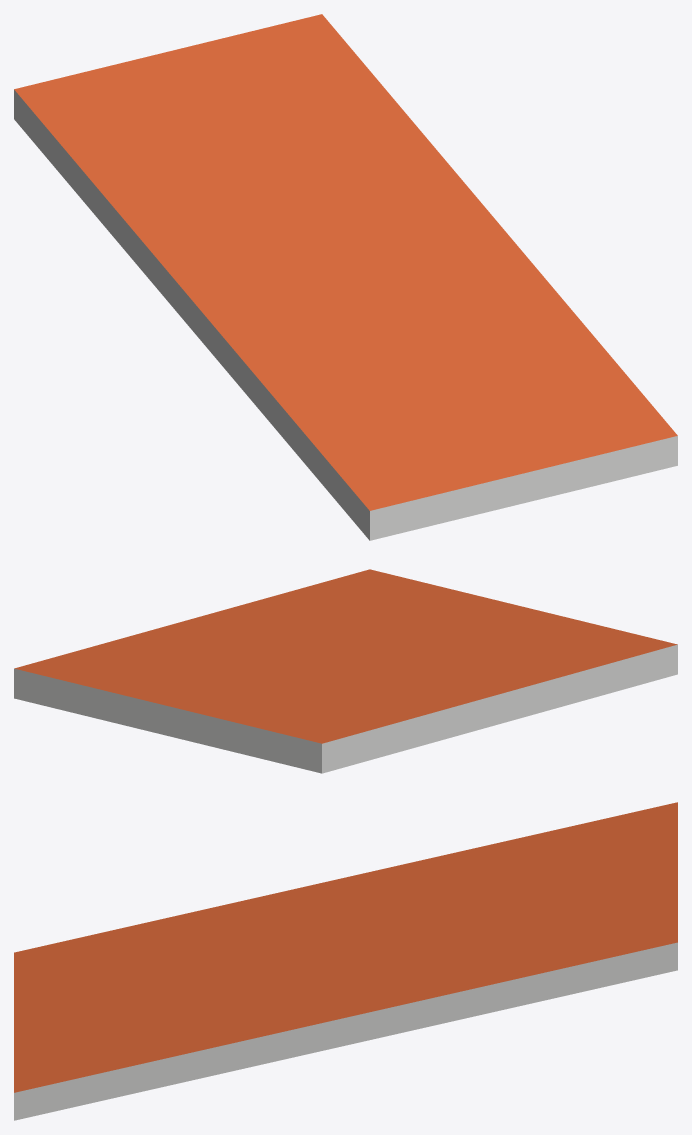
Rendered from telhado_meia_agua_v2_i25_1m.glb.
3 renders of one model, top to bottom at view 1: azimuth 30°, elevation 25°; view 2: azimuth 150°, elevation 25°; view 3: azimuth 270°, elevation 25°, orthographic. The views are drawn at different scales.
Parts seen in each view (by area): view 1: telhado_meia_agua_v2_i25_1m; view 2: telhado_meia_agua_v2_i25_1m; view 3: telhado_meia_agua_v2_i25_1m.
Boxes of the visible parts, x1,y1,x2,y2 form: telhado_meia_agua_v2_i25_1m: [14, 14, 677, 540]; telhado_meia_agua_v2_i25_1m: [14, 569, 677, 773]; telhado_meia_agua_v2_i25_1m: [14, 802, 677, 1120].
Size of the model in its own units: 1 by 0.5928 by 2.
